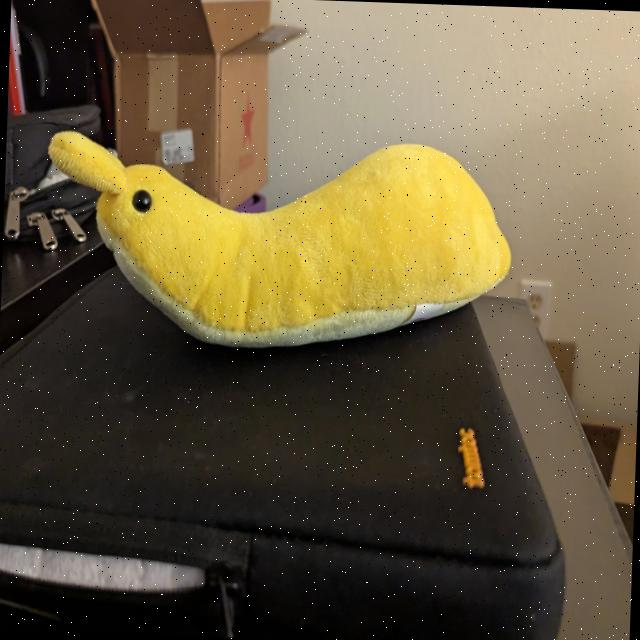banana-slug-toy: (37, 106, 542, 376)
